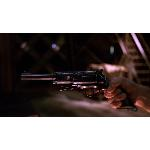Pistol: (15, 63, 137, 111)
